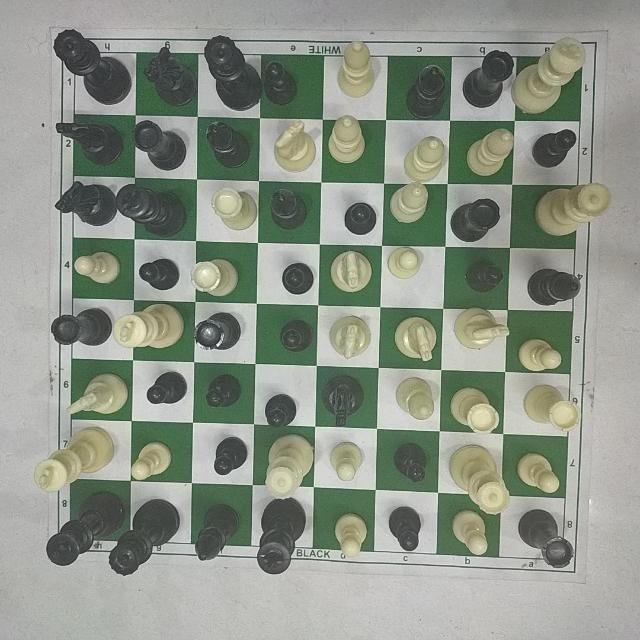black-bishop: (191, 516, 233, 584), (55, 331, 116, 376), (400, 79, 446, 136), (387, 470, 437, 521), (327, 406, 374, 454)
black-king: (528, 71, 596, 145), (453, 399, 525, 461), (332, 64, 384, 142)
black-knight: (516, 470, 585, 524), (444, 532, 497, 597), (525, 409, 586, 458), (273, 214, 323, 266)
black-pawn: (214, 85, 258, 140), (61, 472, 111, 516), (457, 344, 505, 385), (341, 533, 380, 583), (454, 230, 496, 273), (393, 230, 437, 268), (208, 156, 250, 195), (327, 283, 366, 325), (339, 211, 379, 251), (136, 345, 178, 383), (391, 162, 428, 205), (327, 342, 367, 380), (261, 403, 297, 439)
black-queen: (510, 534, 590, 614), (460, 60, 532, 145), (379, 526, 440, 608)
black-rook: (66, 66, 124, 132), (450, 467, 512, 523), (129, 527, 182, 591), (529, 287, 591, 334), (138, 397, 194, 442), (396, 287, 446, 329)
white-bishop: (262, 540, 310, 604), (267, 472, 317, 527), (124, 465, 176, 511), (203, 215, 250, 265), (209, 411, 255, 458), (193, 459, 236, 502)
white-king: (55, 525, 127, 603), (529, 148, 607, 216), (457, 283, 531, 334)
white-knight: (513, 221, 577, 270), (127, 288, 191, 335), (198, 276, 252, 331), (322, 466, 372, 523), (264, 347, 314, 390), (266, 281, 312, 325)
white-pawn: (150, 81, 196, 133), (466, 157, 516, 203), (521, 350, 573, 394), (269, 81, 314, 129), (72, 267, 124, 307), (77, 146, 126, 188), (273, 157, 311, 199), (217, 361, 255, 397)
white-queen: (26, 401, 110, 459), (128, 127, 194, 198), (321, 142, 385, 206)
white-rook: (56, 205, 124, 257), (138, 202, 196, 257), (381, 404, 435, 458), (396, 339, 448, 387)
